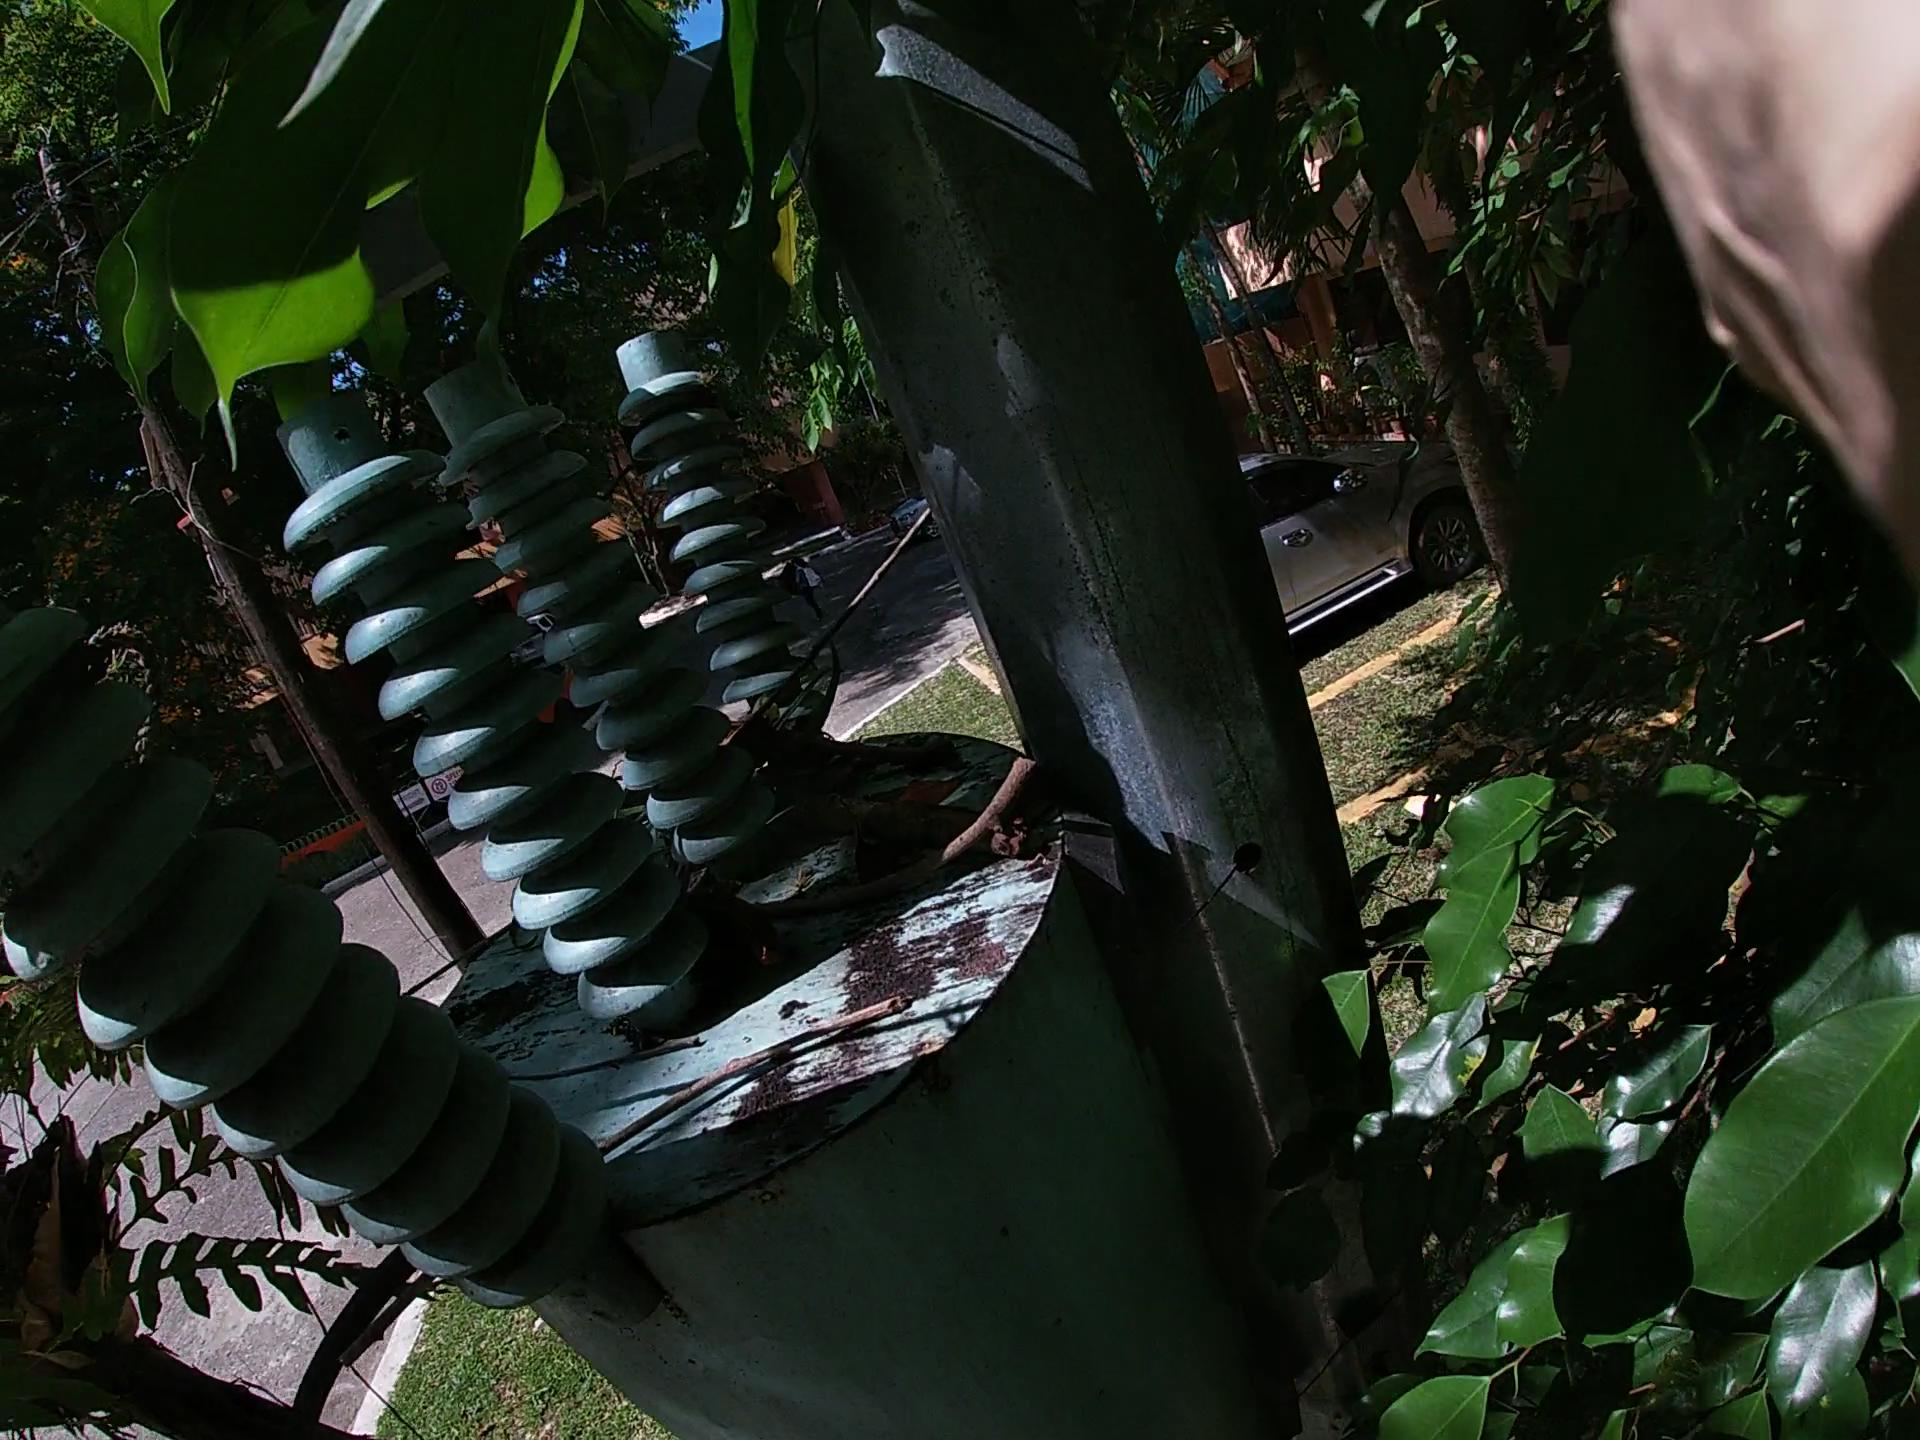branch with leaves: (659, 663, 869, 784)
leaf: (800, 717, 1051, 906)
mahogany fruit: (614, 824, 844, 992)
tree branch: (107, 386, 1028, 1184), (457, 953, 1028, 1255), (751, 791, 1033, 939)
